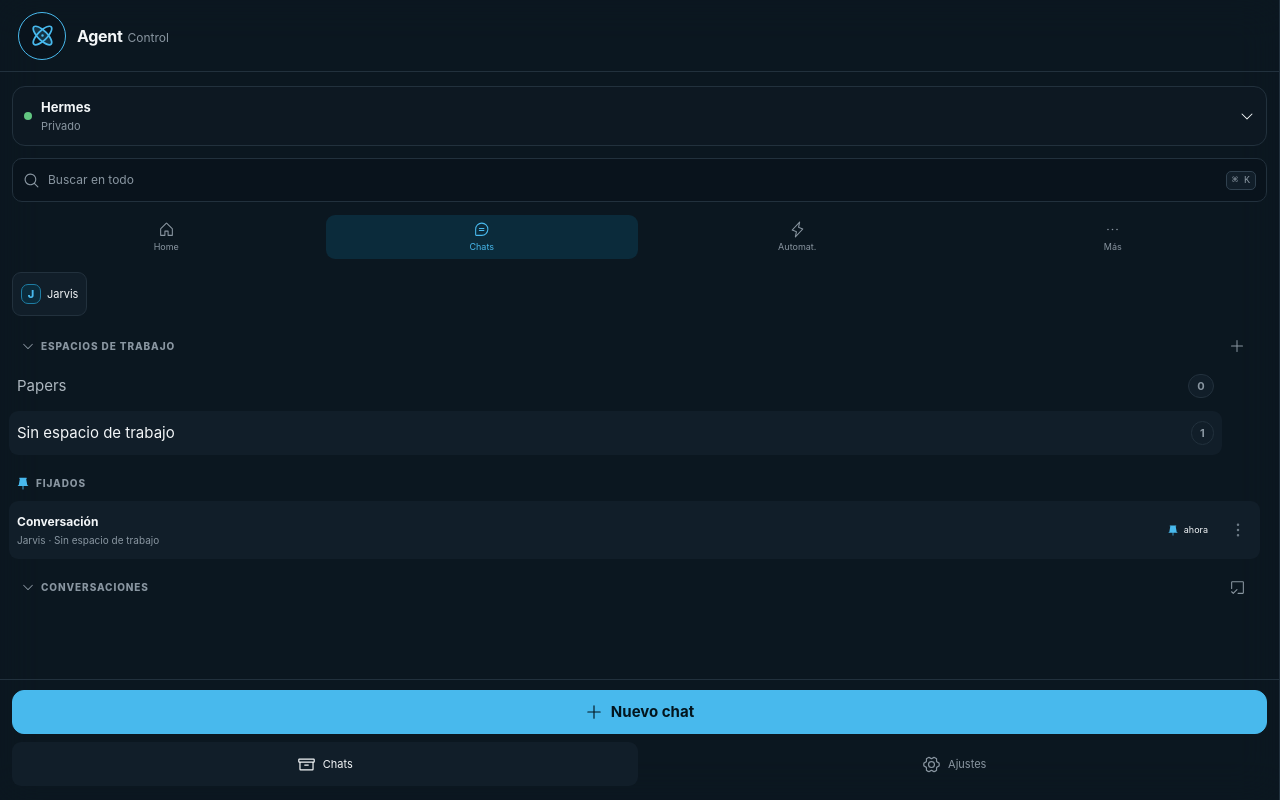
Test: sidebar session menu › collapses workspaces without hiding the pinned list
Check: the button "Papers 0" is shown, box [9, 364, 1222, 408]
Check: the text "Fijados" is shown, box [16, 476, 86, 490]
Click the button with aria-label "Colapsar espacios de trabajo": click(108, 346) [16, 330, 1221, 362]
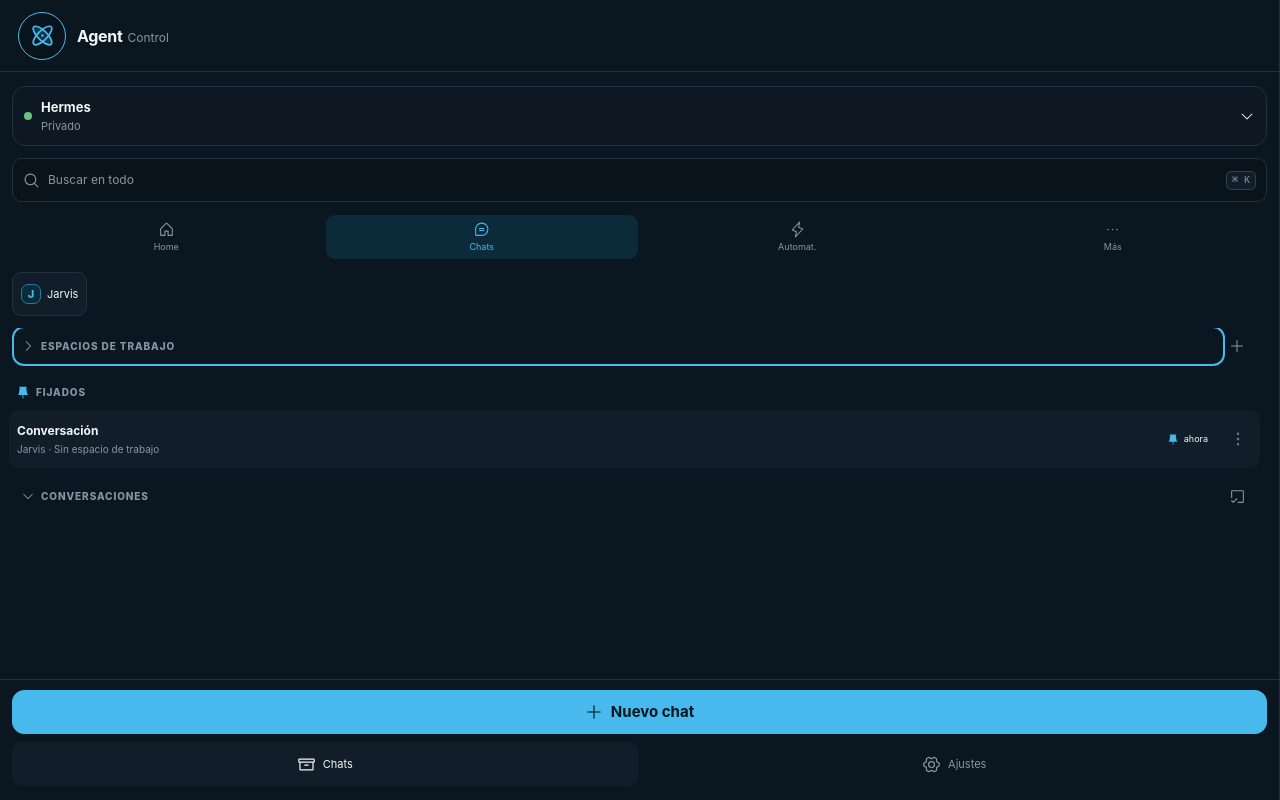
Check: the text "Fijados" is shown, box [16, 384, 86, 400]
Check: the button "Papers" is gone
Click the button with aria-label "Expandir espacios de trabajo": click(108, 346) [16, 330, 1221, 362]
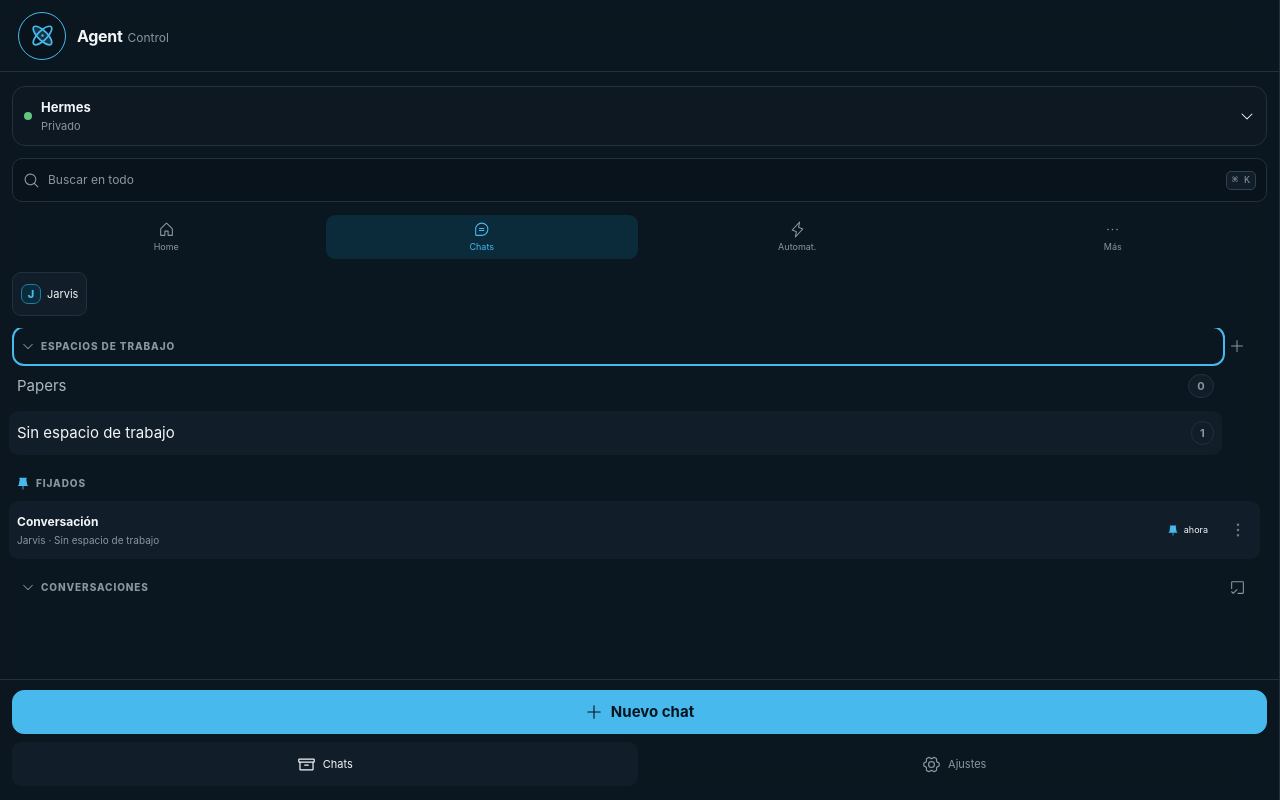
Check: the button "Papers 0" is shown, box [9, 364, 1222, 408]
